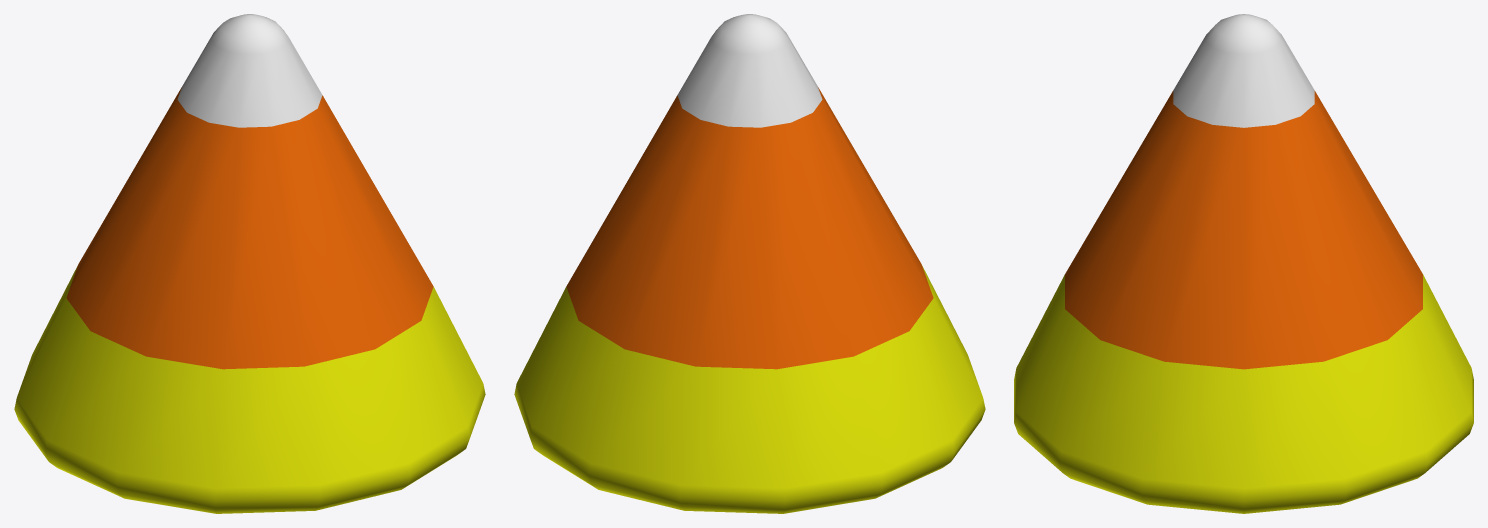
Rendered from CandyCorn1.fbx.
3 views of the same model, side by side, from view 1: azimuth 30°, elevation 25°; view 2: azimuth 150°, elevation 25°; view 3: azimuth 270°, elevation 25° (orthographic).
Parts seen in each view (by area): view 1: polySurface5; view 2: polySurface5; view 3: polySurface5.
Part boxes in pixels (<box>): polySurface5: <box>14,14,485,513</box>; polySurface5: <box>514,14,985,513</box>; polySurface5: <box>1014,14,1473,513</box>.
Bounding box in the file's own units: 1.36 × 1.3 × 1.33.
